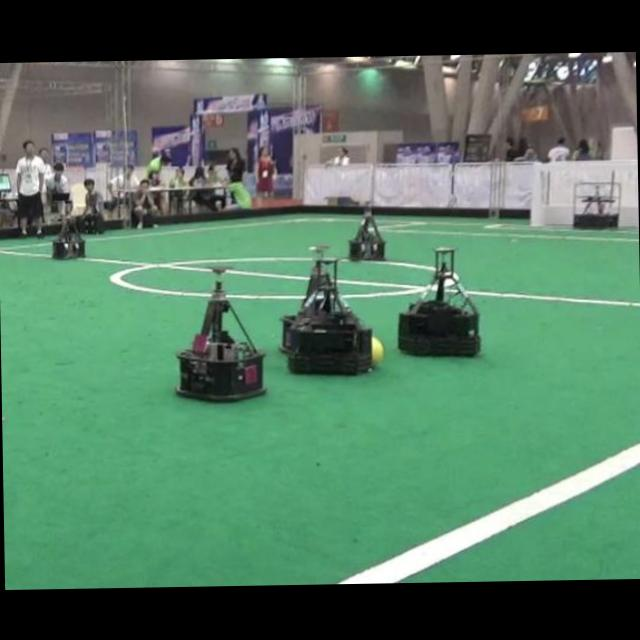ball: (371, 336, 384, 365)
goal: (529, 161, 543, 224)
robot: (176, 265, 265, 399), (279, 257, 371, 373), (397, 246, 479, 354), (573, 170, 620, 227), (349, 204, 385, 258), (51, 202, 85, 258)
